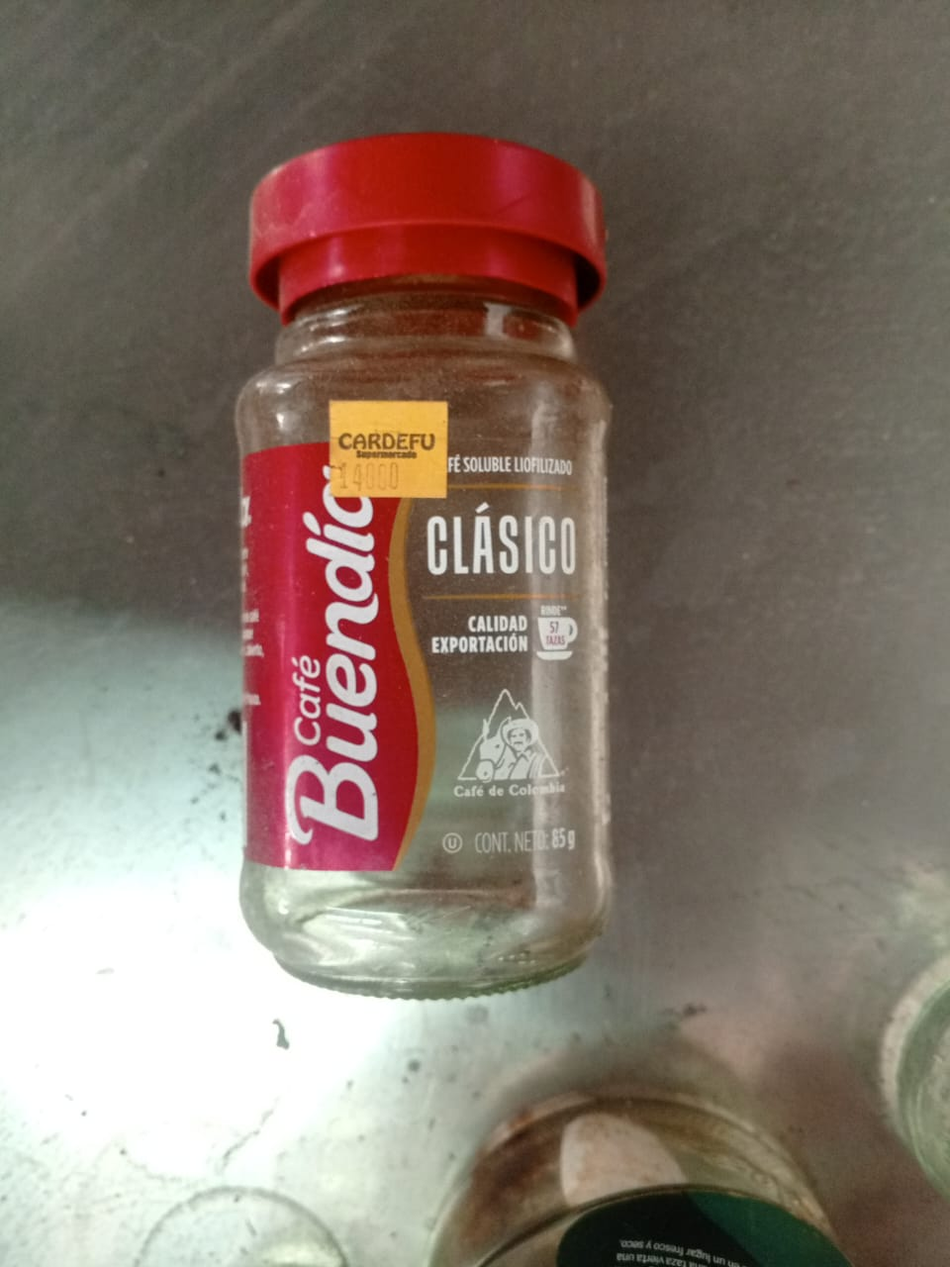Plastico: (247, 133, 609, 300)
Vidrio: (238, 304, 609, 990)
